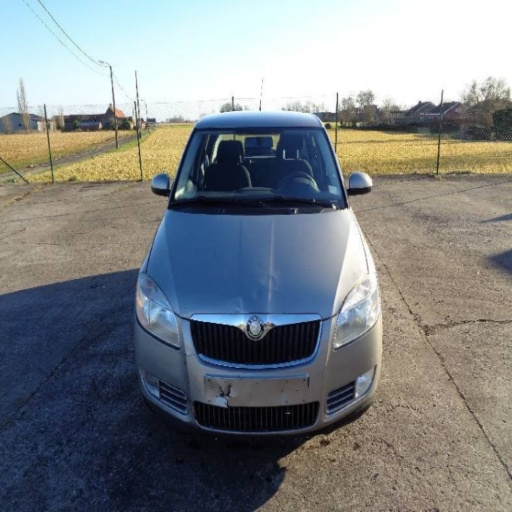dent: (249, 255, 283, 301), (225, 295, 248, 314)
scratch: (182, 351, 198, 357)
